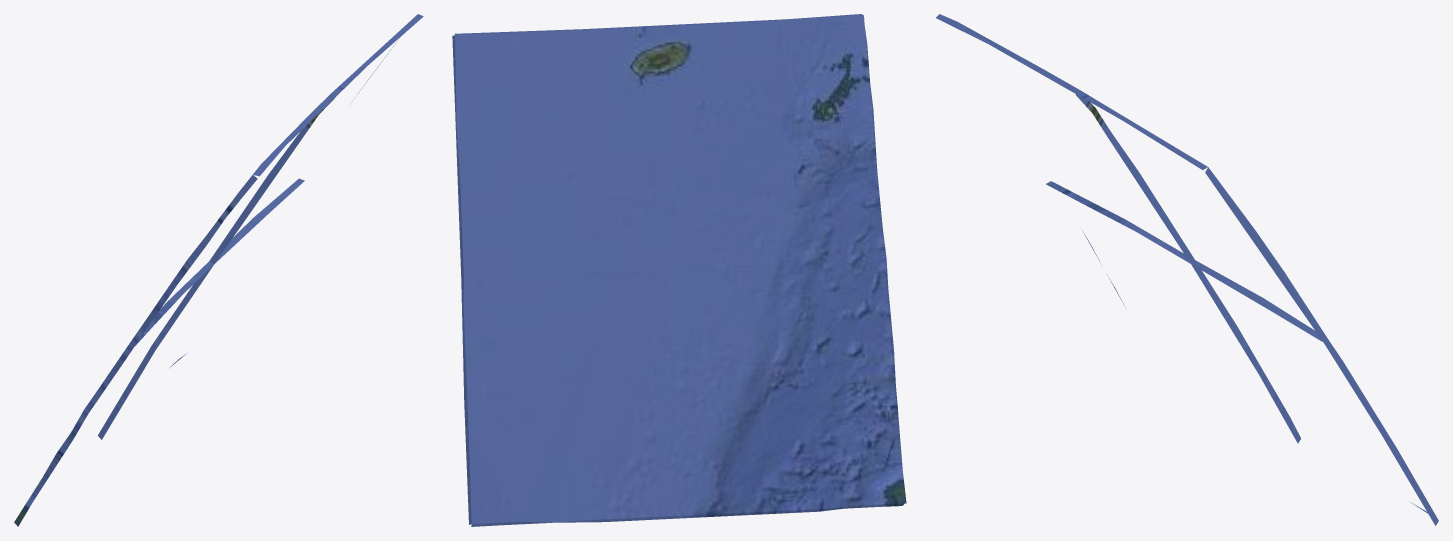
3 views of the same model, side by side, from view 1: azimuth 30°, elevation 25°; view 2: azimuth 150°, elevation 25°; view 3: azimuth 270°, elevation 25° (orthographic). The views are drawn at different scales.
Bounding box in the file's own units: 630573 × 543977 × 584713.
Materials: 1 (1 with a texture image).
